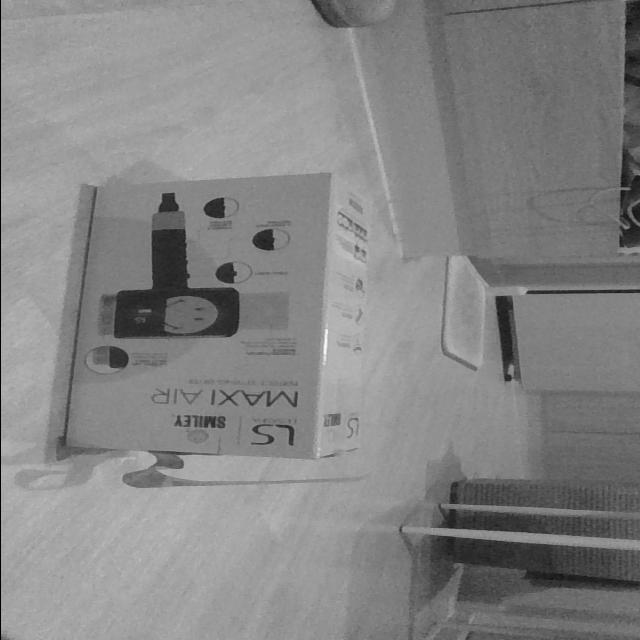IRON: (57, 170, 376, 462)
